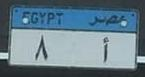8: (32, 33, 49, 64)
alif: (100, 35, 110, 65)
